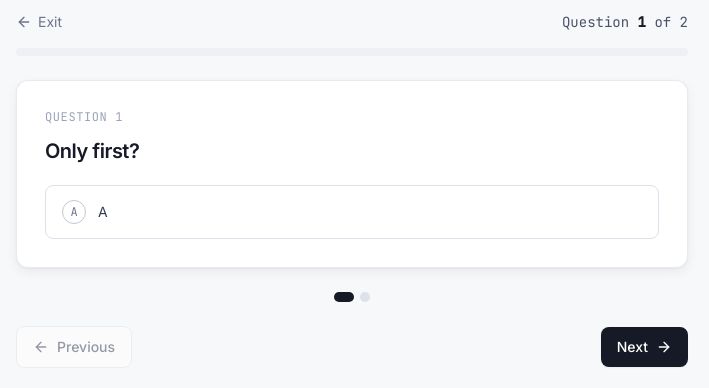
Test: QuizPlayPage › renders fewer than five questions when the topic has fewer
Expected: the heading "Only first?" is shown, [45,139,139,163]
Step 1. Click the button "Next" → (644, 347), box [601,327,688,367]
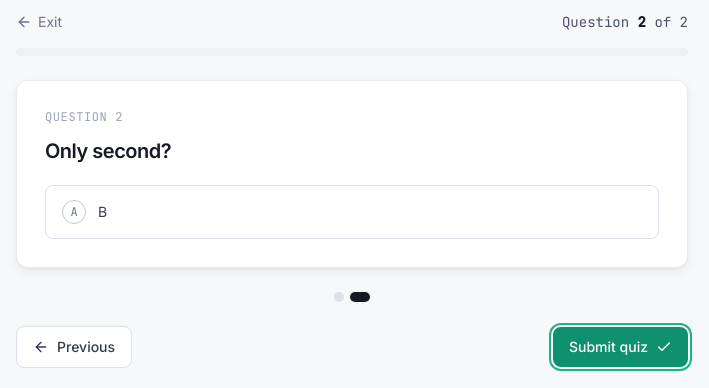
Expected: the heading "Only second?" is shown, [45,139,171,163]
Expected: the button "Submit quiz" is shown, [553,327,688,367]
